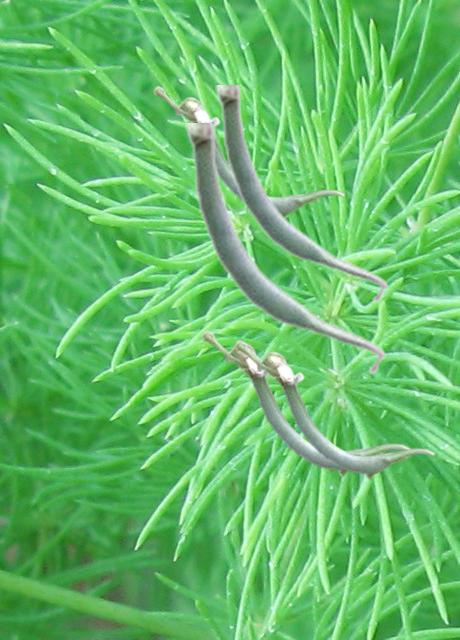french_bean: (185, 123, 385, 375), (215, 85, 387, 303), (201, 329, 409, 476), (234, 339, 434, 479), (153, 85, 344, 217)
